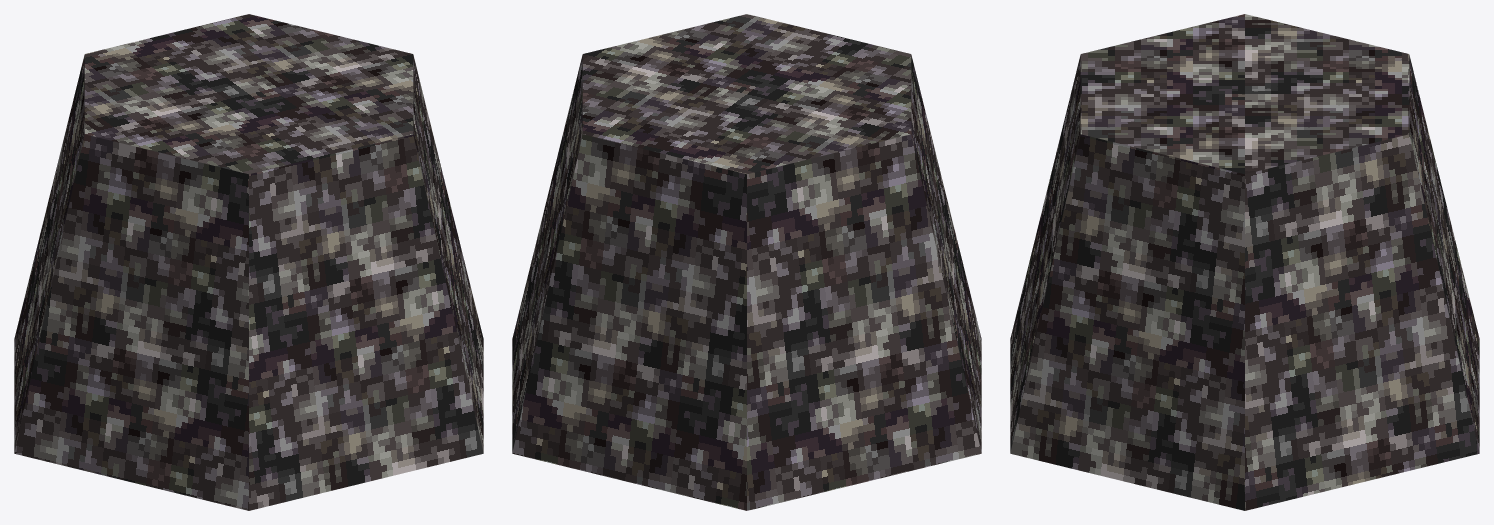
File: fl_koma_u.glb
3 views of the same model, side by side, from view 1: azimuth 30°, elevation 25°; view 2: azimuth 150°, elevation 25°; view 3: azimuth 270°, elevation 25° (orthographic).
Parts seen in each view (by area): view 1: fl_koma_u; view 2: fl_koma_u; view 3: fl_koma_u.
Part boxes in pixels (x1=…): fl_koma_u: x1=14, y1=14, x2=483, y2=510; fl_koma_u: x1=512, y1=14, x2=981, y2=510; fl_koma_u: x1=1010, y1=14, x2=1479, y2=510.
Bounding box in the file's own units: 10.16 × 6.25 × 8.8.
1 material, 1 textured.
